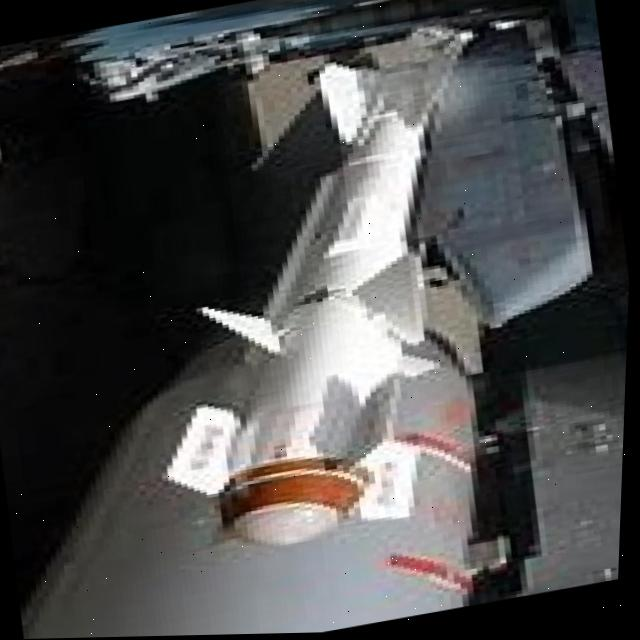missile: (99, 25, 545, 567)
